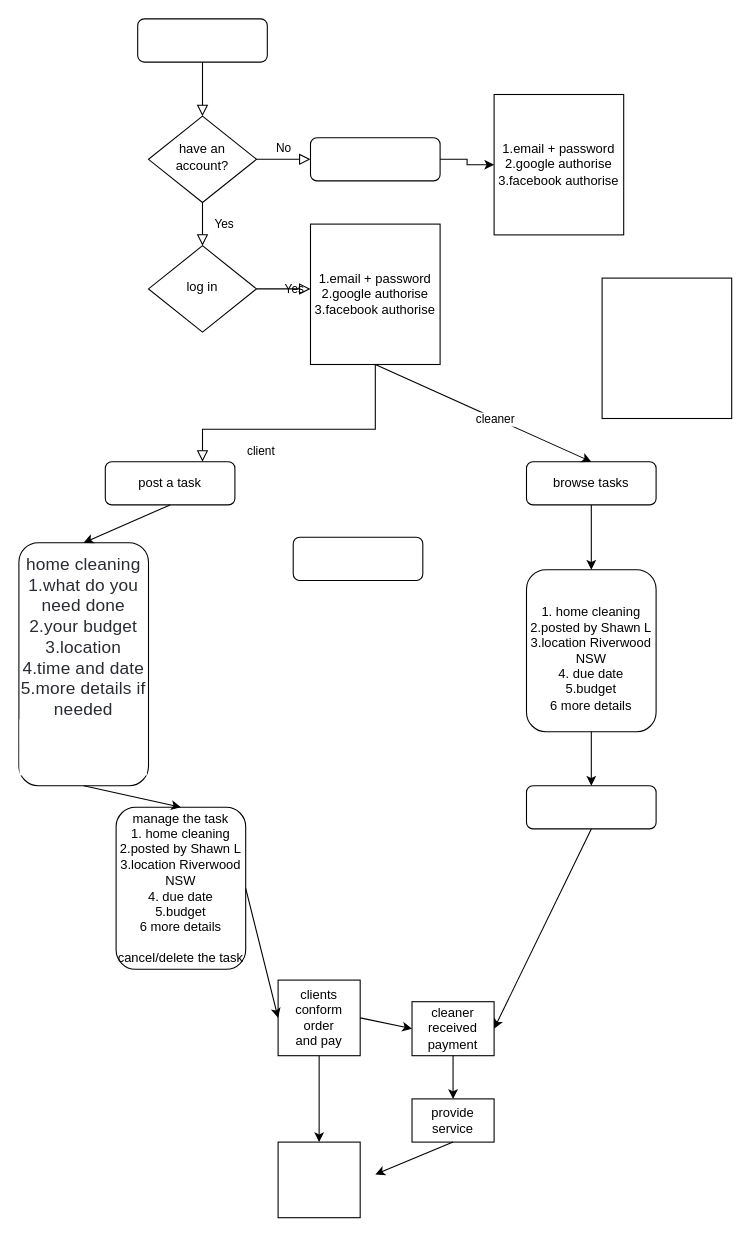
Image size: 751x1237. Some labels were removed from this diagram. Each missing label, with the centre of its shape:
browse tradies???: the point at 357,558
clients review: the point at 318,1179
create an account: the point at 374,159
for cleaners provide 1.photo 2.bank details 3.mobile number 4.: the point at 666,347
make an offer: the point at 590,807
open airtasker.com: the point at 202,40
